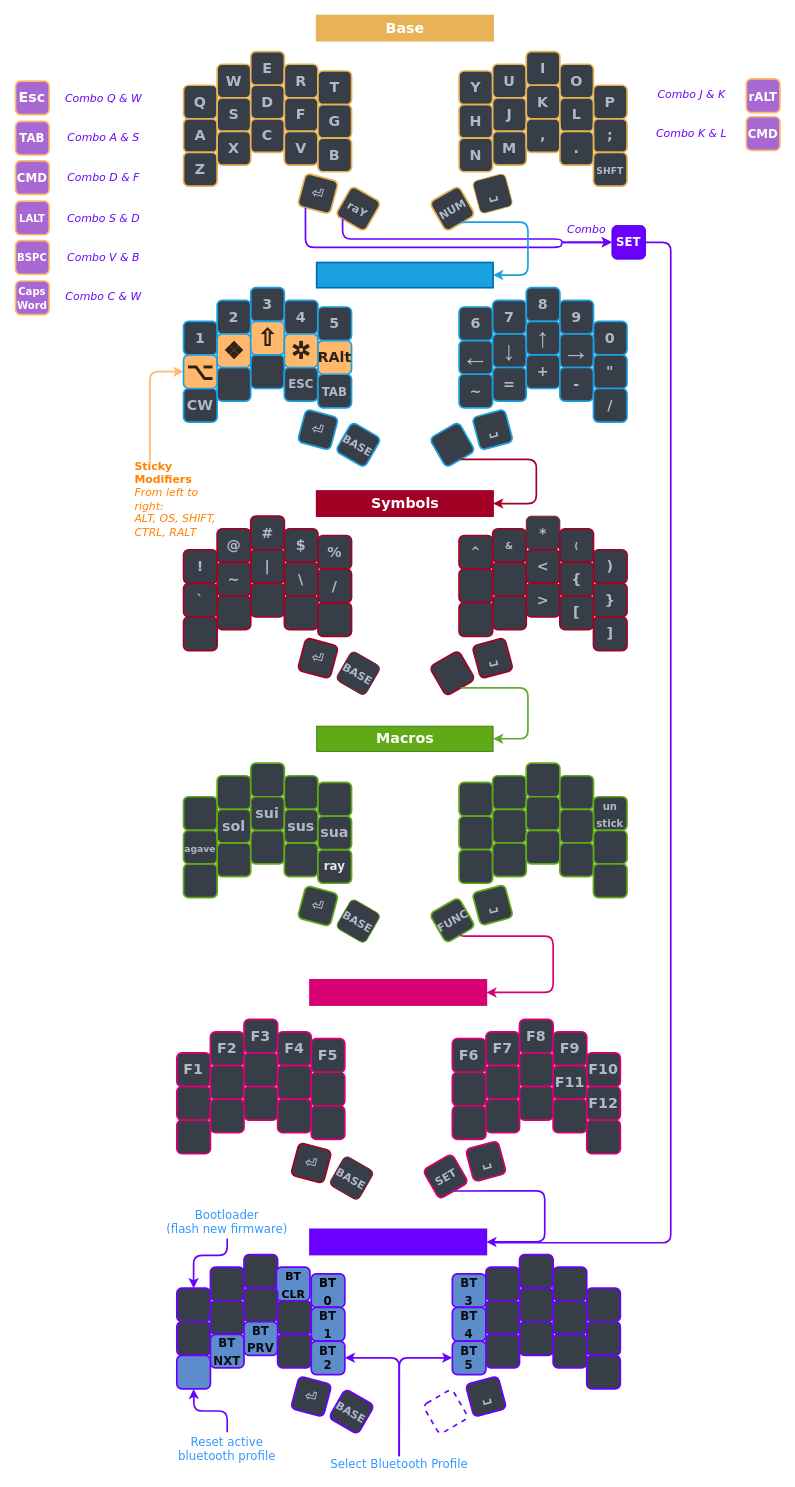
The diagram is 795 pixels wide and 1487 high, and some of its shapes have lost their labels. The shapes that lost their labels are listed below. From the top down, each one's centre as x and y in pixels, then its label:
[404,274]: Num Nav
[452,444]: Sym
[452,673]: mcro
[398,992]: Functions
[398,1241]: Settings
[193,1304]: BL
[193,1371]: BT RES
